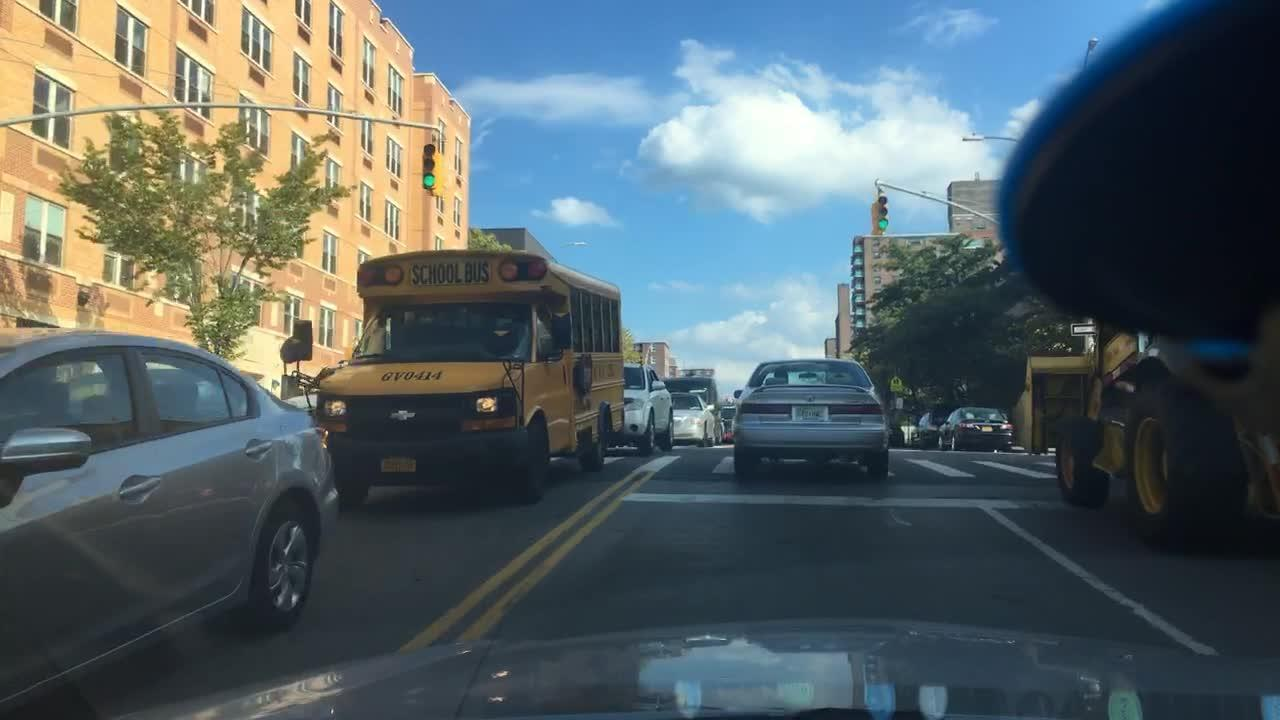chevrolet: (382, 403, 423, 427)
